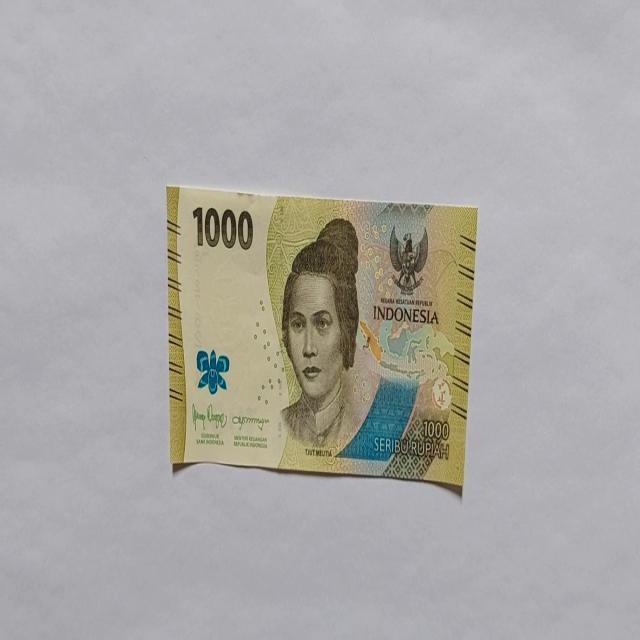seribu rupiah kertas: (166, 183, 478, 493)
